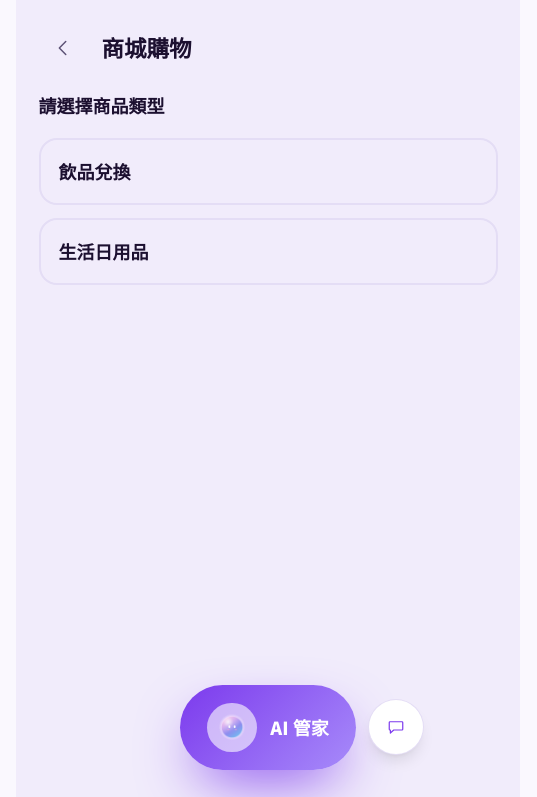
Test: ShopFlowPage › clears the stale product detail panel when switching to a different category
The image size is (537, 797).
Click the button "飲品兌換" at coordinates (94, 171), box [38, 138, 498, 205]
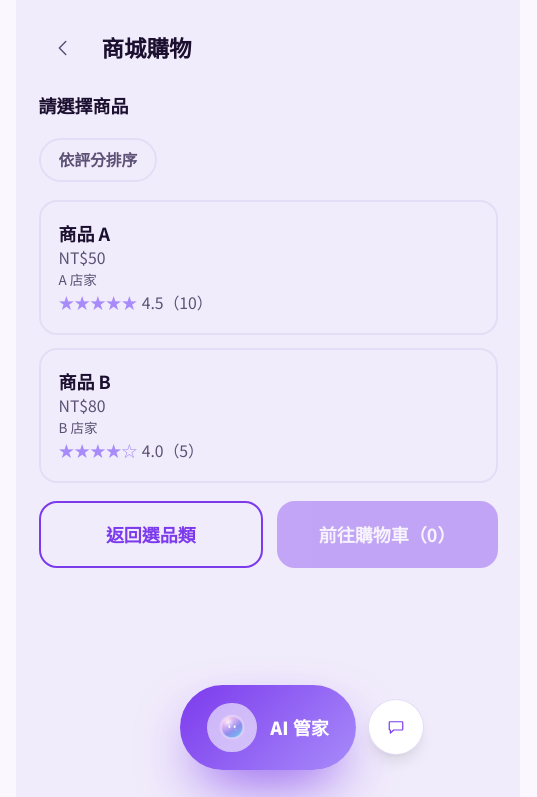
Click the text "商品 A" at coordinates (84, 233), box [58, 220, 110, 246]
(page scrolled)
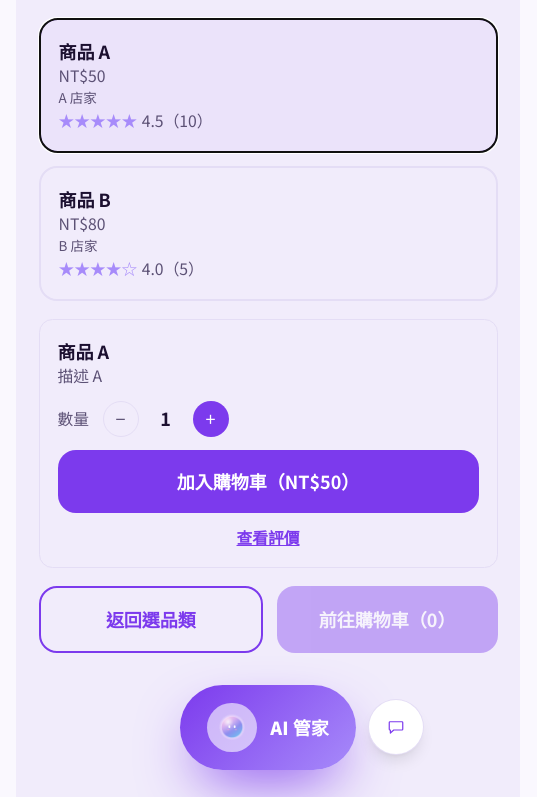
Result: the button "加入購物車（NT$50）" is shown at [58, 450, 478, 513]
Click the button "返回選品類" at coordinates (151, 620), box [38, 586, 263, 653]
(page scrolled)
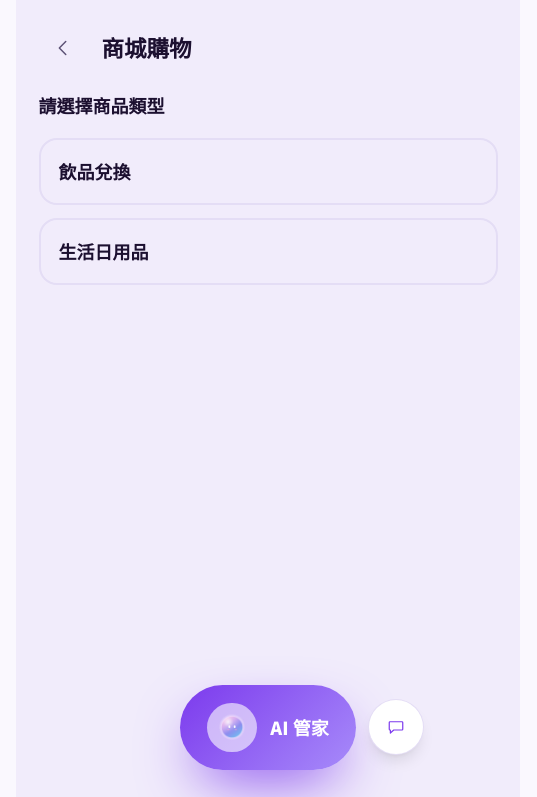
Click the button "生活日用品" at coordinates (104, 251), box [38, 218, 498, 285]
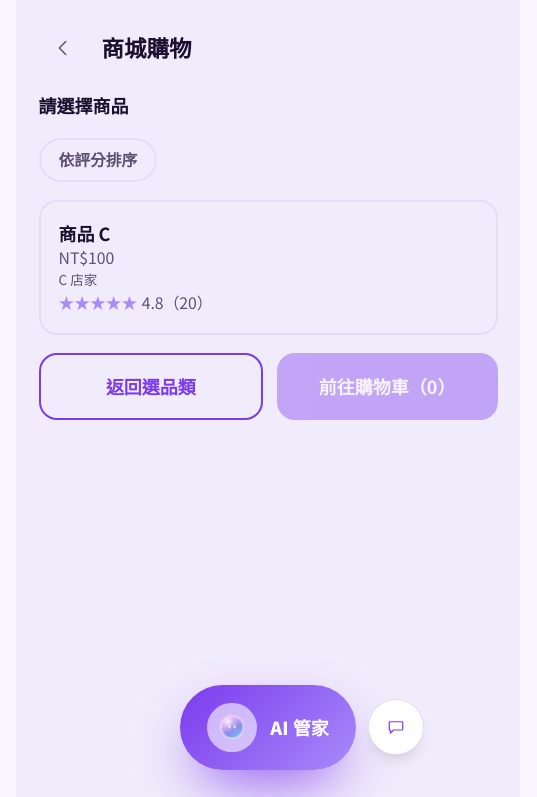
Expected: the button "加入購物車" is not shown
Result: the text "商品 C" is shown at [58, 220, 110, 246]
